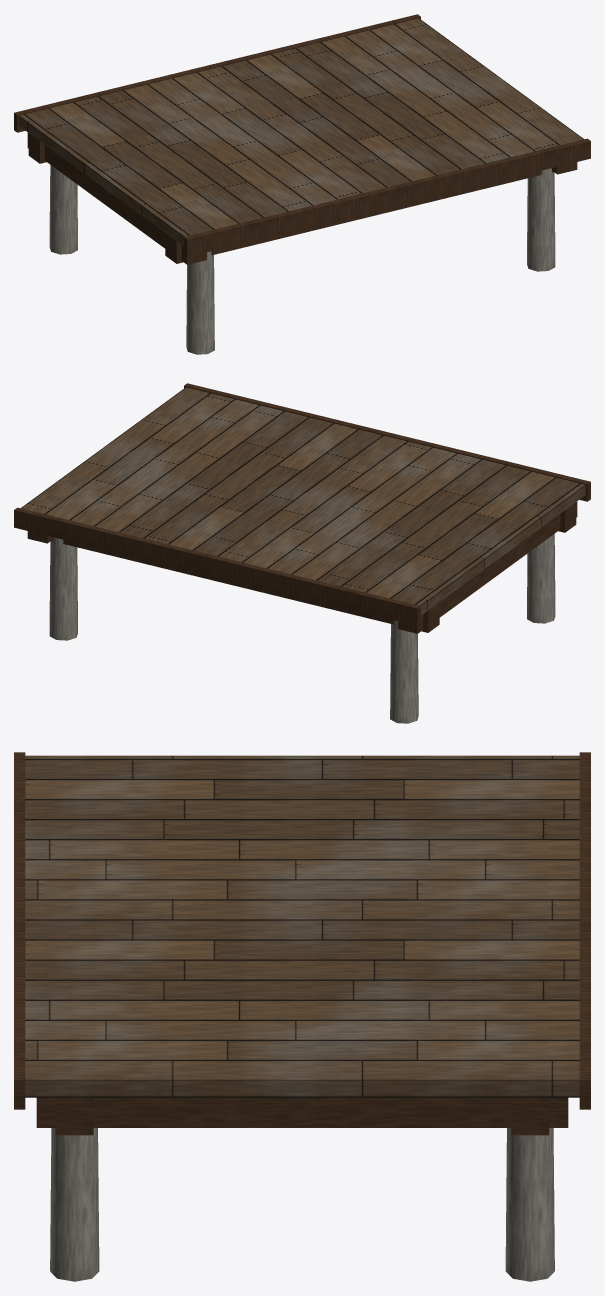
Rendered from SM_Art_Pier_405x300x100_P125.gltf.
3 renders of one model, top to bottom at view 1: azimuth 30°, elevation 25°; view 2: azimuth 150°, elevation 25°; view 3: azimuth 270°, elevation 25°, orthographic. The views are drawn at different scales.
Visible parts, largest first — view 1: SM_Art_Pier_405x300x100_P125; view 2: SM_Art_Pier_405x300x100_P125; view 3: SM_Art_Pier_405x300x100_P125.
Part boxes in pixels (<box>): SM_Art_Pier_405x300x100_P125: <box>14,14,590,354</box>; SM_Art_Pier_405x300x100_P125: <box>14,383,590,723</box>; SM_Art_Pier_405x300x100_P125: <box>14,752,590,1281</box>.
Size of the model in its own units: 4.09 by 1.26 by 3.04.
3 materials, 3 textured.
